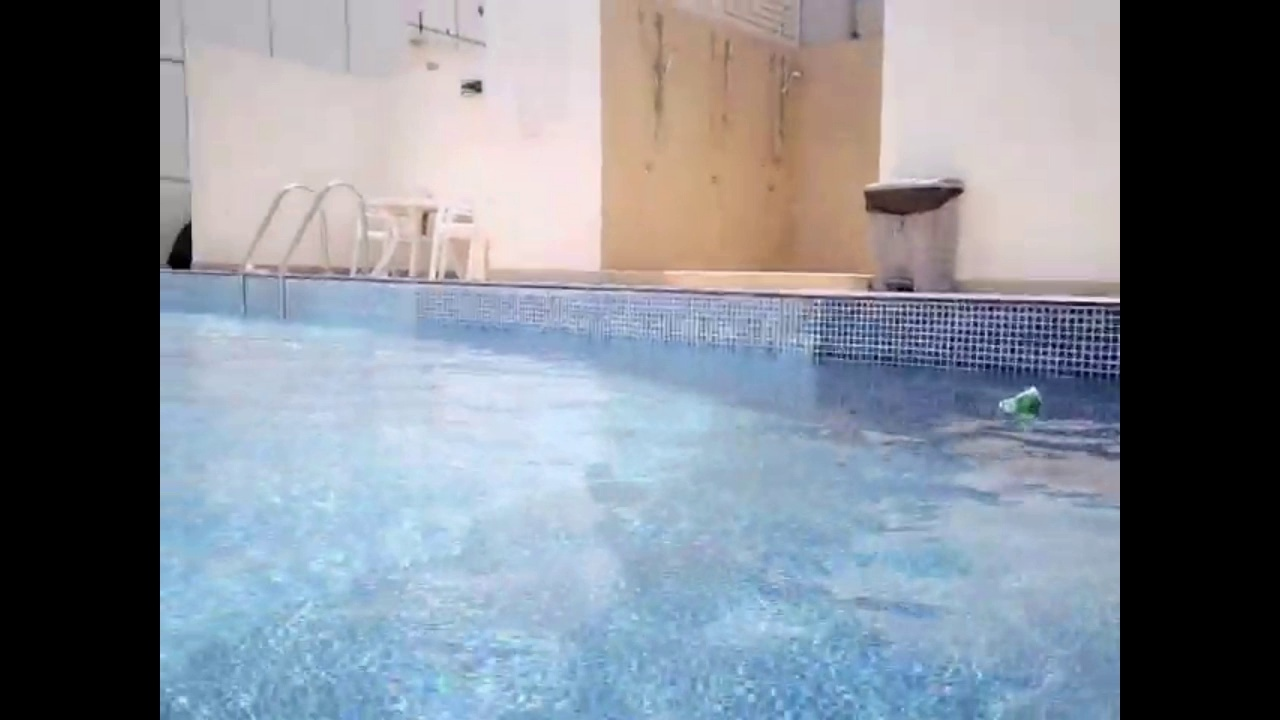debris: (995, 382, 1053, 429)
